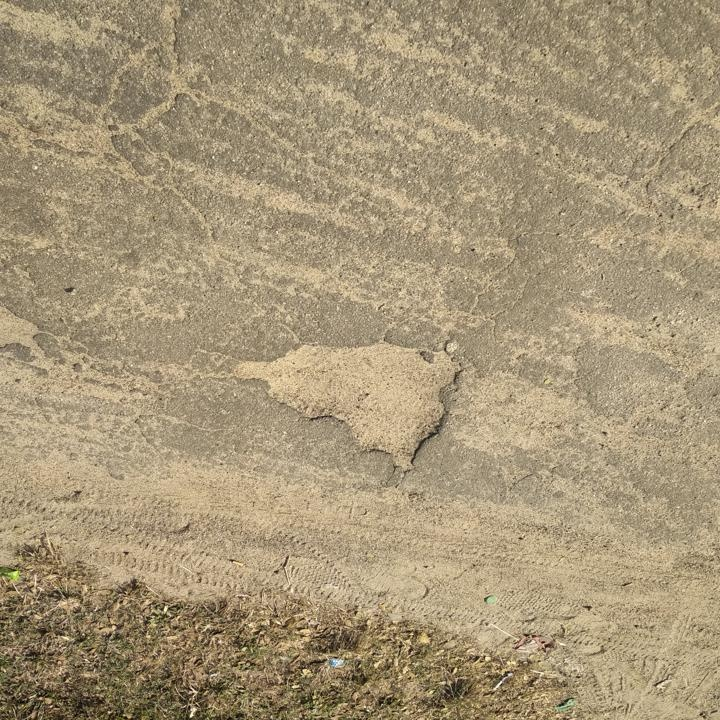pothole: (229, 334, 466, 479)
